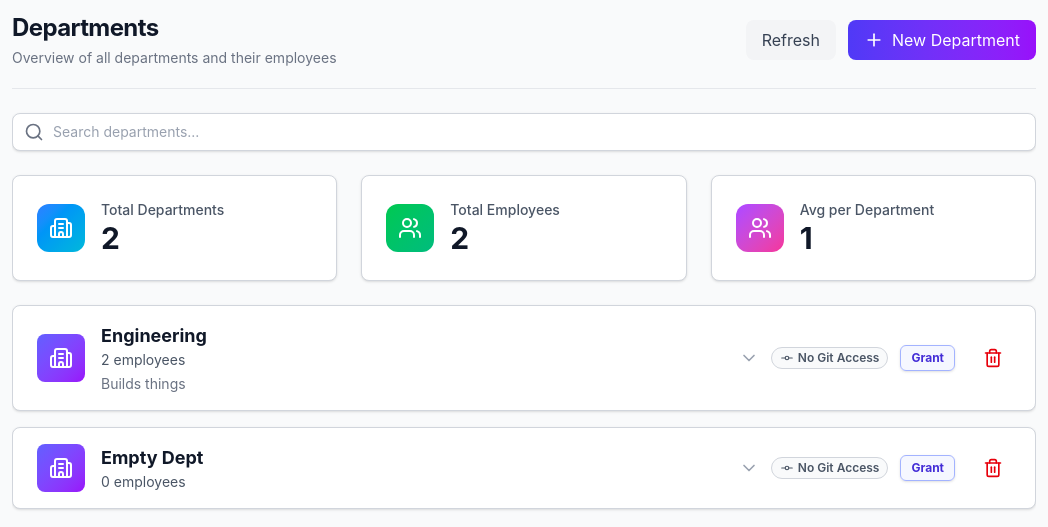
DepartmentsPage coverage › filters departments by search
expect the heading "Engineering" is shown: met, box [101,325,207,346]
Type "Empty" into the field with placeholder "Search departments..." at (524, 132), box [12,113,1036,151]
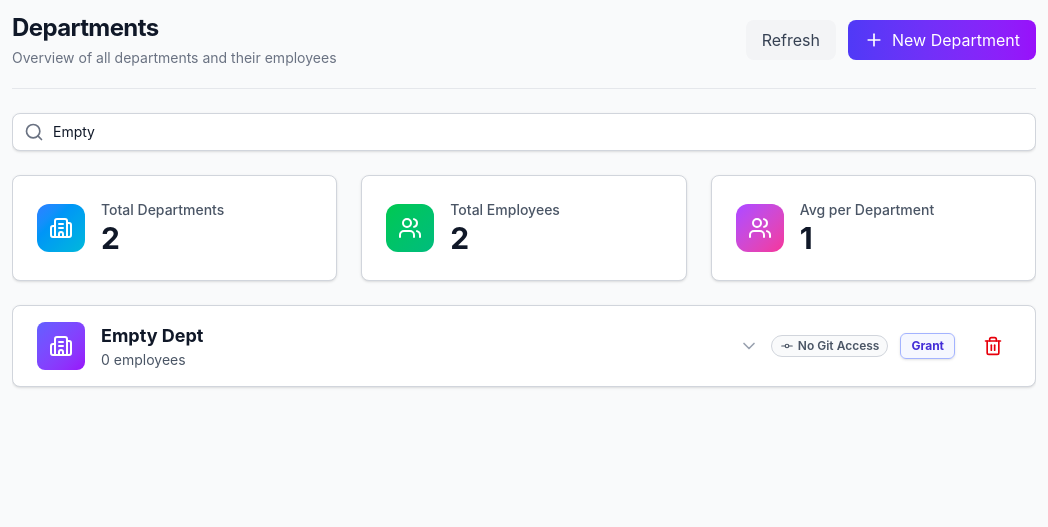
expect the heading "Empty Dept" is shown: met, box [101,325,204,346]
expect the button "Engineering" is gone: met
# No results view
Replace the text in the field with placeholder "Search departments..." with "XYZ" at (524, 132), box [12,113,1036,151]
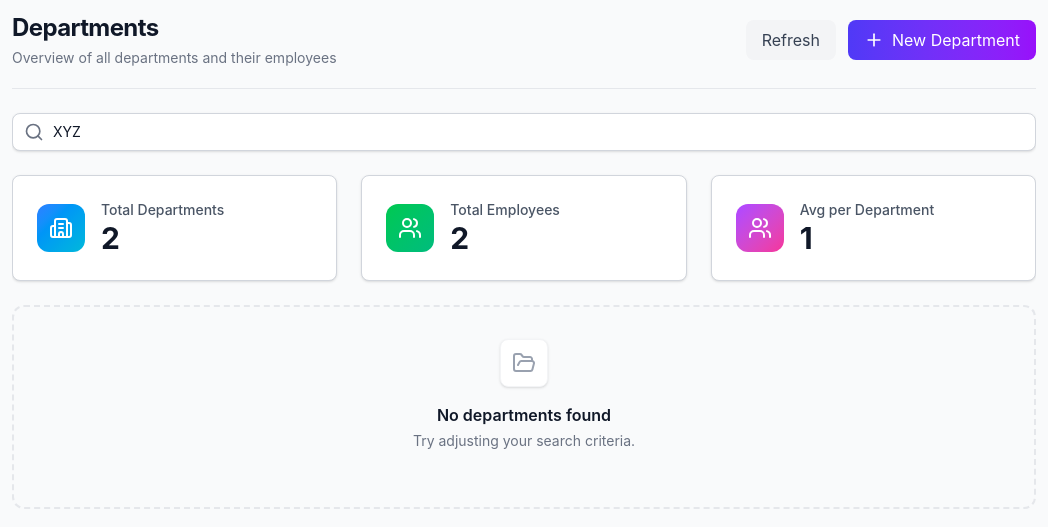
expect the heading "No departments found" is shown: met, box [437,403,611,427]
